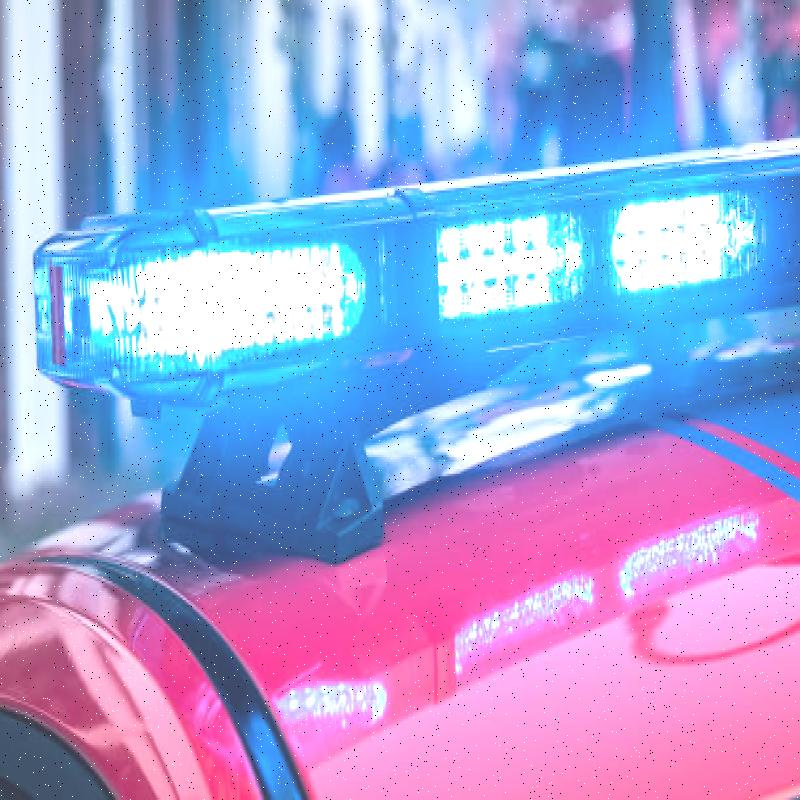AmbulanceSiren: (29, 102, 800, 422)
